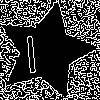I: (21, 26, 40, 73)
